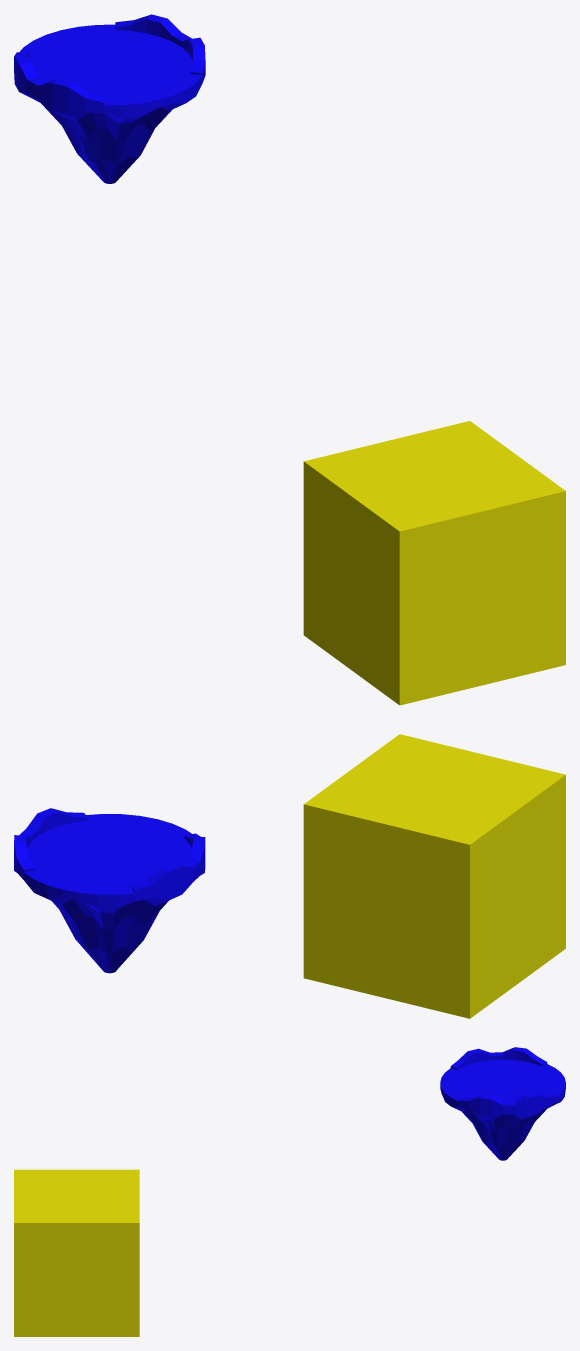
Rendered from terrain.glb.
3 views of the same model, one above another, from view 1: azimuth 30°, elevation 25°; view 2: azimuth 150°, elevation 25°; view 3: azimuth 270°, elevation 25° (orthographic). The views are drawn at different scales.
Parts seen in each view (by area): view 1: Cube, platforme_roche.008; view 2: Cube, platforme_roche.008; view 3: Cube, platforme_roche.008.
Part boxes in pixels (left/top/right/bottom): Cube: left=303, top=421, right=565, bottom=705; platforme_roche.008: left=14, top=14, right=205, bottom=183; Cube: left=303, top=734, right=565, bottom=1018; platforme_roche.008: left=14, top=808, right=205, bottom=973; Cube: left=14, top=1169, right=139, bottom=1336; platforme_roche.008: left=440, top=1047, right=565, bottom=1160.
Size of what is drawn, in the model's own units: 2 by 4.16 by 8.78.
